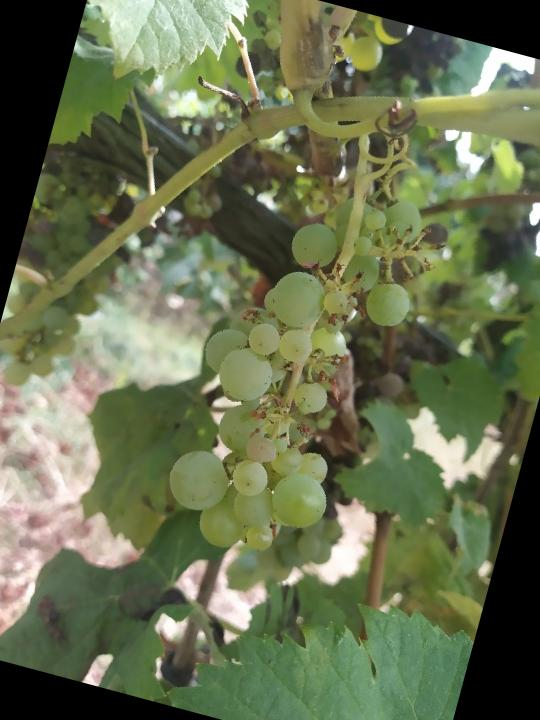grape: (151, 156, 440, 584)
